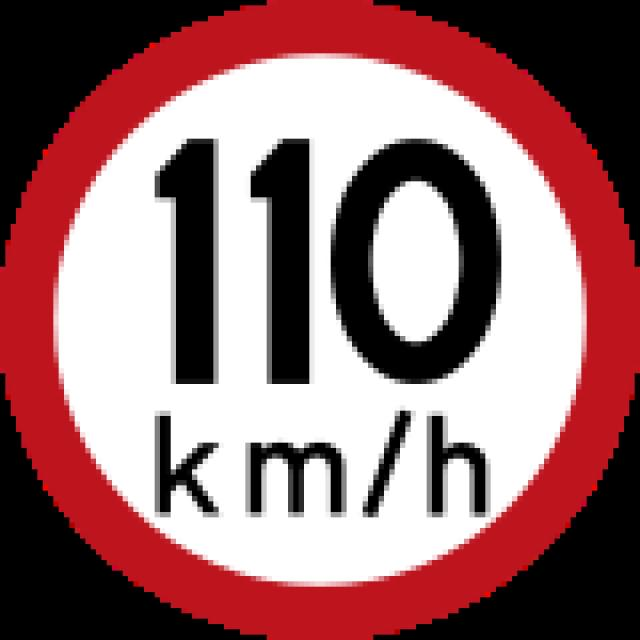Speed Limit -110-: (143, 120, 512, 390)
